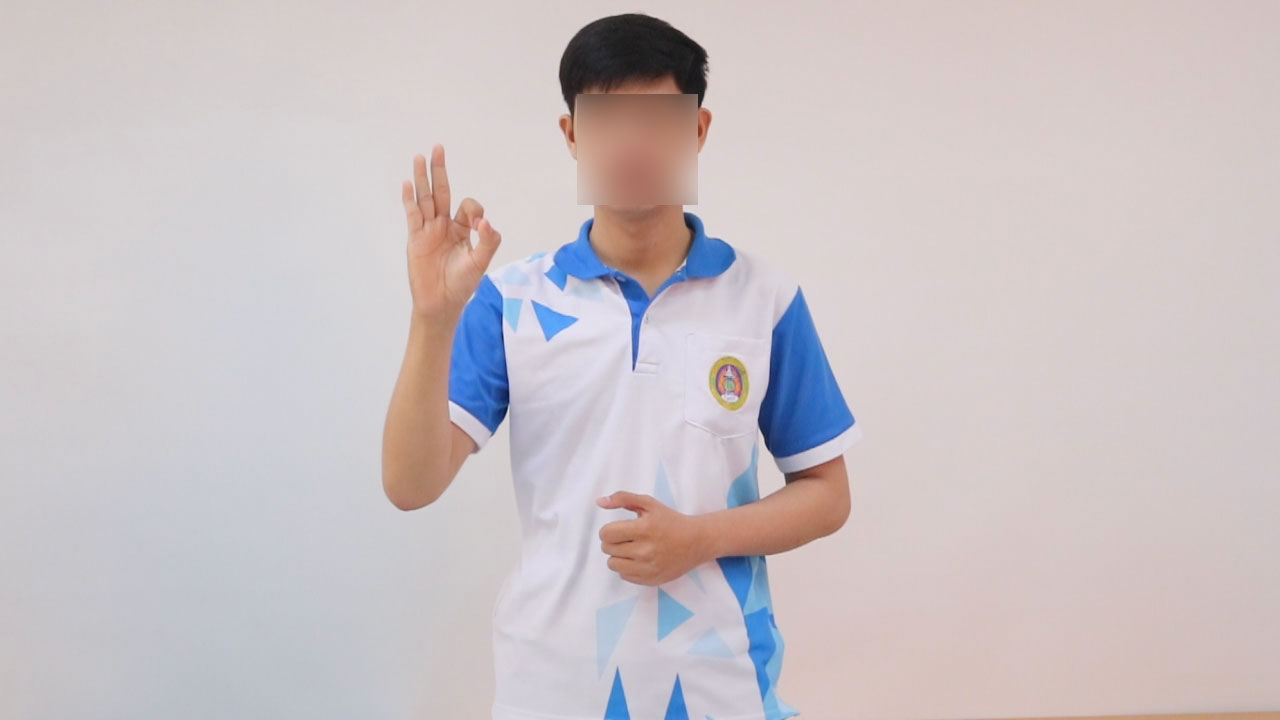for: (394, 136, 506, 342)
